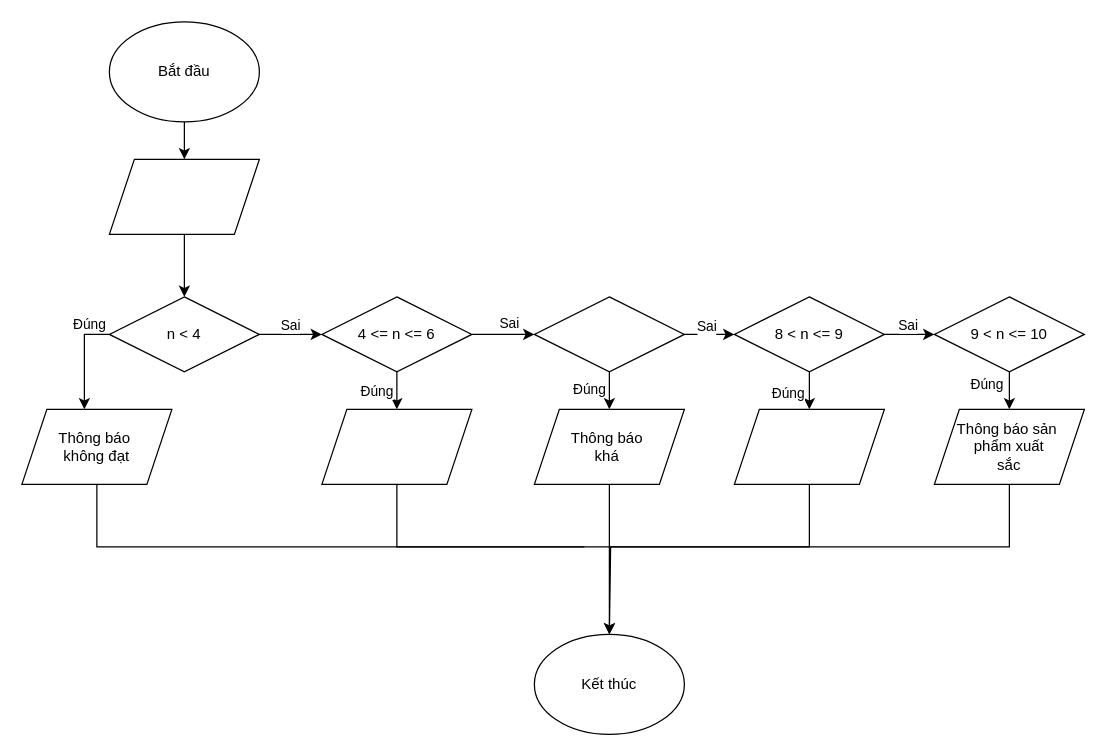
Image size: 1106x756. Some labels were removed from this diagram. Here are the shapes that lost their labels. From the top down, the centre of each, then its label:
(x=183, y=196): Nhập giá trị n
(x=608, y=334): 6 < n <= 8
(x=396, y=446): Thông báo trung bình
(x=808, y=446): Thông báo giỏi
